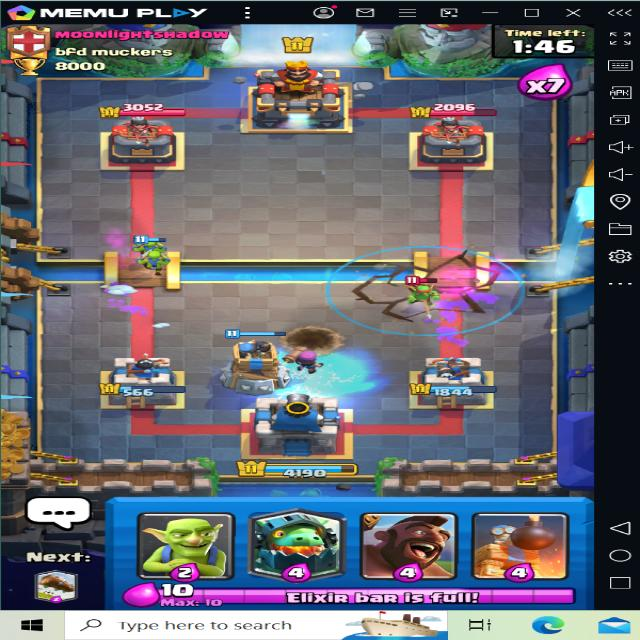lightning: (250, 346, 376, 402)
spear-goblin: (401, 276, 436, 304)
